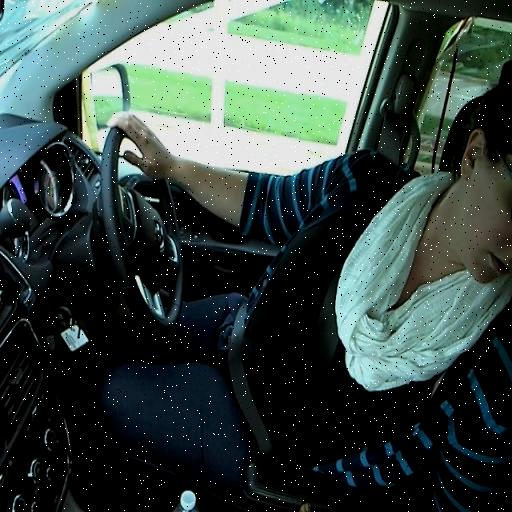turning: (82, 51, 509, 414)
